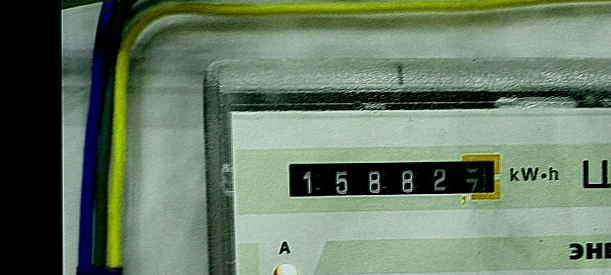1: (300, 168, 314, 196)
2: (431, 166, 447, 194)
5: (332, 168, 350, 196)
7: (463, 176, 479, 193)
8: (365, 168, 381, 196), (399, 167, 414, 195)
screen: (275, 147, 511, 210)
